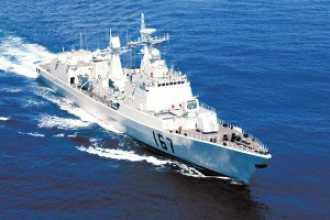warship: (35, 7, 273, 184)
